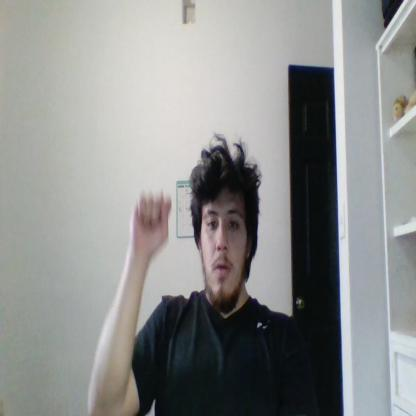T: (130, 191, 171, 254)
